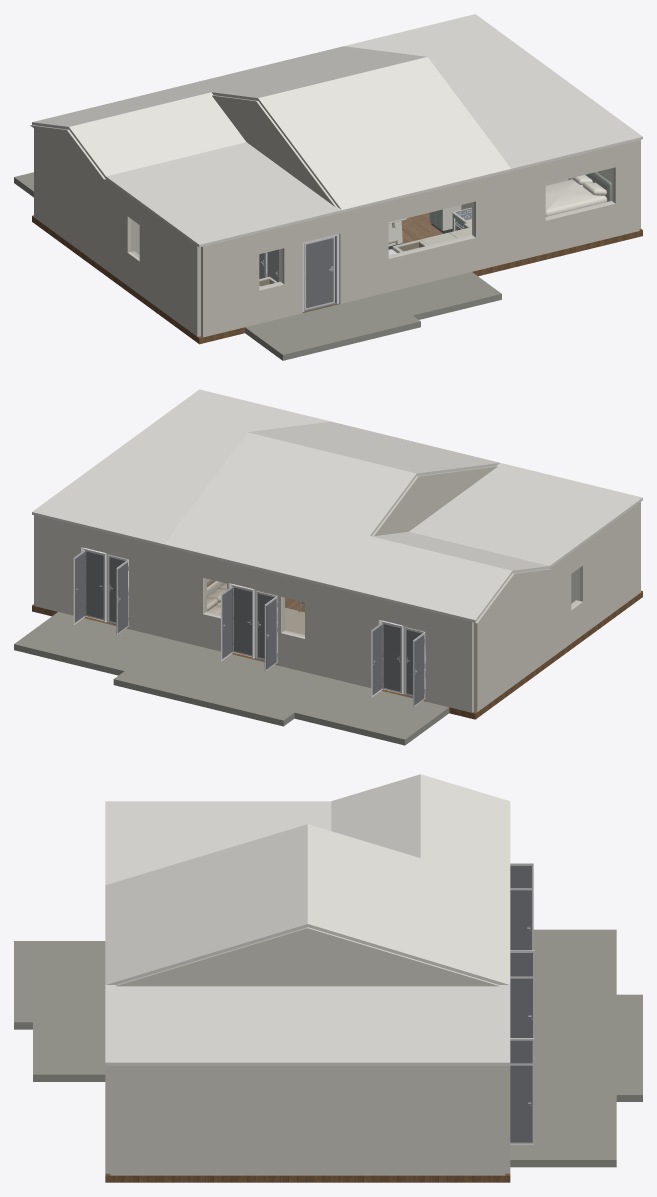
The picture shows the model from 3 angles, top to bottom: view 1: azimuth 30°, elevation 25°; view 2: azimuth 150°, elevation 25°; view 3: azimuth 270°, elevation 25°; orthographic projection. The views are drawn at different scales.
Visible parts, largest first — view 1: living-kitchen/vault-front, east-wing-flat-ceiling, services-flat-ceiling, ext-left/pier-0, primary/vault-front, ground/slab/1, ext-front/pier-3, ext-left/end, living-kitchen/vault-rear, ext-front/pier-0, ext-front/pier-2, living-kitchen/gable-left (+21 smaller); view 2: living-kitchen/vault-rear, ground/slab/3, east-wing-flat-ceiling, services-flat-ceiling, primary/vault-rear, ext-left/pier-0, ext-rear/pier-4, ext-rear/pier-1, living-kitchen/vault-front, ext-left/end, ext-rear/pier-0, ext-rear/end (+27 smaller); view 3: ext-right/end, east-wing-flat-ceiling, living-kitchen/vault-rear, living-kitchen/vault-front, ground/slab/3, living-kitchen/gable-right, services-flat-ceiling, ground/slab/1, primary/vault-rear, primary/vault-front, ground/slab/0, ground/slab/4 (+9 smaller).
Boxes of the visible parts, x1=… form: living-kitchen/vault-front: x1=258, y1=57, x2=511, y2=212; east-wing-flat-ceiling: x1=344, y1=14, x2=642, y2=171; services-flat-ceiling: x1=106, y1=142, x2=341, y2=247; ext-left/pier-0: x1=34, y1=128, x2=134, y2=285; primary/vault-front: x1=69, y1=92, x2=246, y2=178; ground/slab/1: x1=245, y1=272, x2=501, y2=354; ext-front/pier-3: x1=472, y1=163, x2=545, y2=270; ext-left/end: x1=139, y1=204, x2=200, y2=336; living-kitchen/vault-rear: x1=174, y1=46, x2=426, y2=100; ext-front/pier-0: x1=201, y1=233, x2=259, y2=337; ext-front/pier-2: x1=339, y1=201, x2=388, y2=303; living-kitchen/gable-left: x1=212, y1=95, x2=337, y2=207; living-kitchen/vault-rear: x1=163, y1=432, x2=416, y2=587; ground/slab/3: x1=14, y1=612, x2=449, y2=745; east-wing-flat-ceiling: x1=32, y1=389, x2=330, y2=546; services-flat-ceiling: x1=409, y1=463, x2=642, y2=567; primary/vault-rear: x1=333, y1=536, x2=512, y2=622; ext-left/pier-0: x1=474, y1=553, x2=571, y2=712; ext-rear/pier-4: x1=129, y1=538, x2=206, y2=646; ext-rear/pier-1: x1=305, y1=581, x2=379, y2=687; living-kitchen/vault-front: x1=248, y1=421, x2=499, y2=475; ext-left/end: x1=576, y1=502, x2=640, y2=634; ext-rear/pier-0: x1=426, y1=611, x2=473, y2=712; ext-rear/end: x1=35, y1=515, x2=82, y2=615; ext-right/end: x1=110, y1=1066, x2=505, y2=1175; east-wing-flat-ceiling: x1=105, y1=985, x2=510, y2=1065; living-kitchen/vault-rear: x1=307, y1=824, x2=510, y2=984; living-kitchen/vault-front: x1=105, y1=824, x2=307, y2=984; ground/slab/3: x1=510, y1=929, x2=616, y2=1167; living-kitchen/gable-right: x1=116, y1=927, x2=499, y2=986; services-flat-ceiling: x1=105, y1=801, x2=331, y2=884; ground/slab/1: x1=33, y1=941, x2=105, y2=1081; primary/vault-rear: x1=420, y1=774, x2=510, y2=884; primary/vault-front: x1=331, y1=774, x2=420, y2=857; ground/slab/0: x1=105, y1=1173, x2=510, y2=1182; ground/slab/4: x1=616, y1=994, x2=642, y2=1101.
Bounding box in the file's own units: 14.08 × 4.53 × 14.26.
169 materials, 2 textured.
